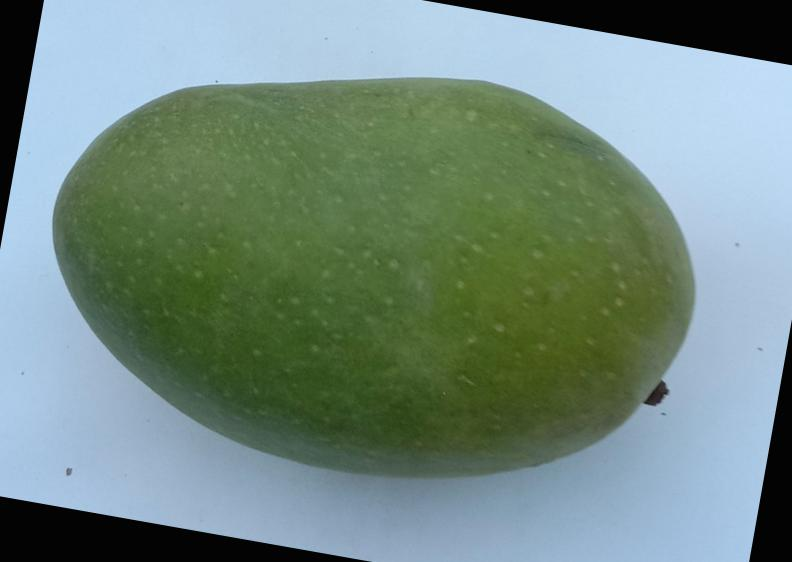Mango Unripe: (0, 0, 766, 562)
